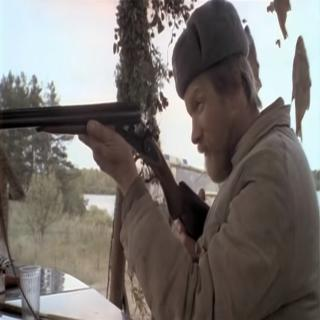gun: (2, 89, 233, 256)
